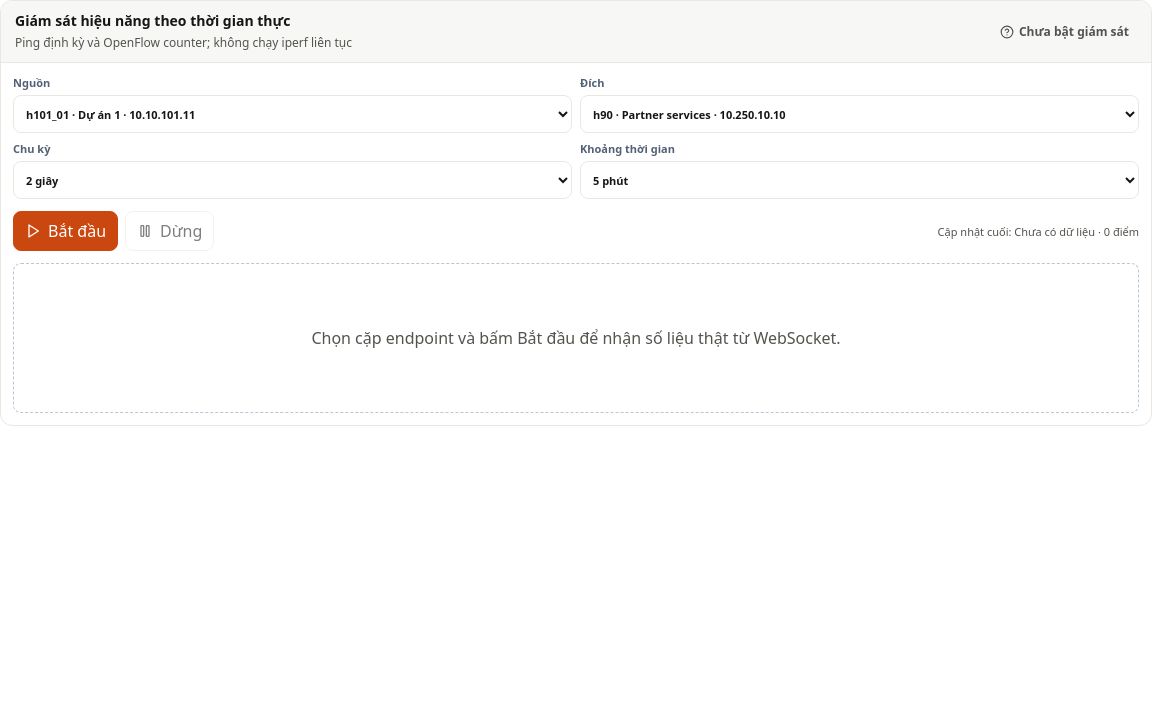
Test: RealtimePanel › does not render zero when the backend reports unavailable throughput
What coordinates should you click on to do the following:
click the button "Bắt đầu"
I would click on:
 (66, 231)
Its box is [13,211,118,251].
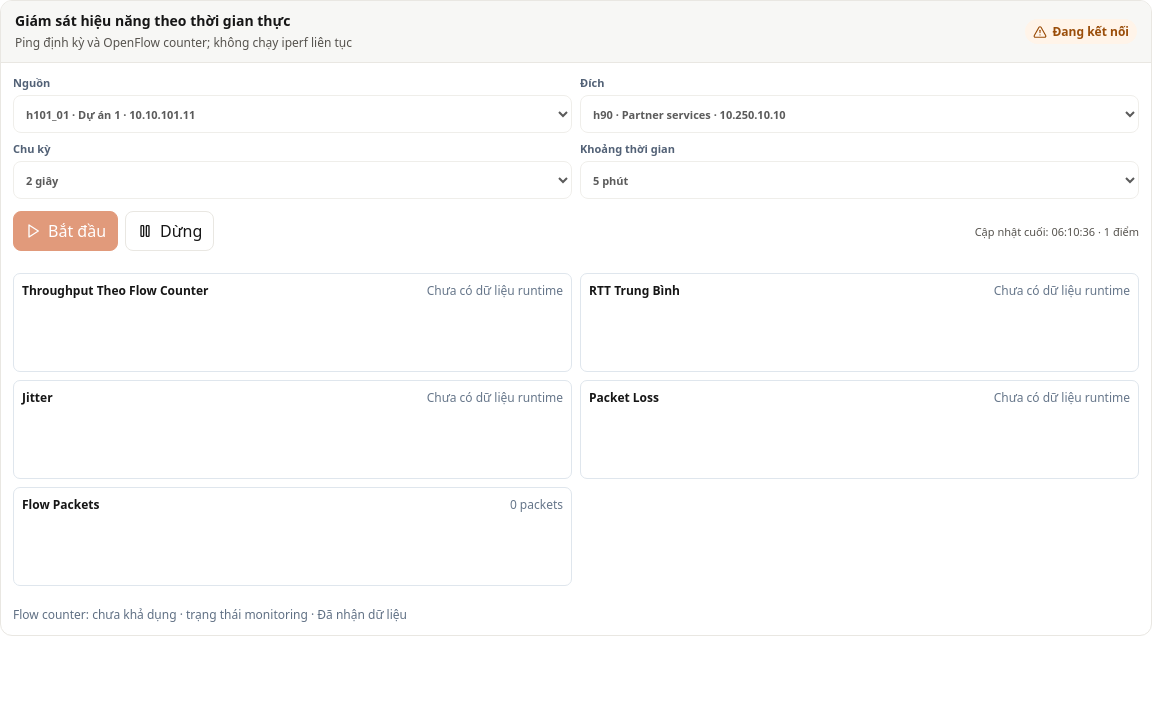
Now the text "Chưa có dữ liệu runtime" in the row of "Throughput theo flow counter" is shown, box [427,282,563,299]
Now the text "Flow counter:" is shown, box [13,606,176,623]
